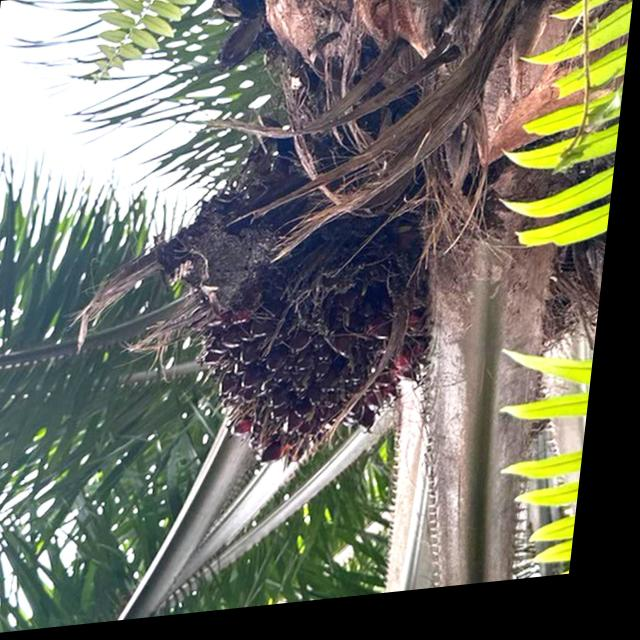ripe: (191, 224, 454, 495)
